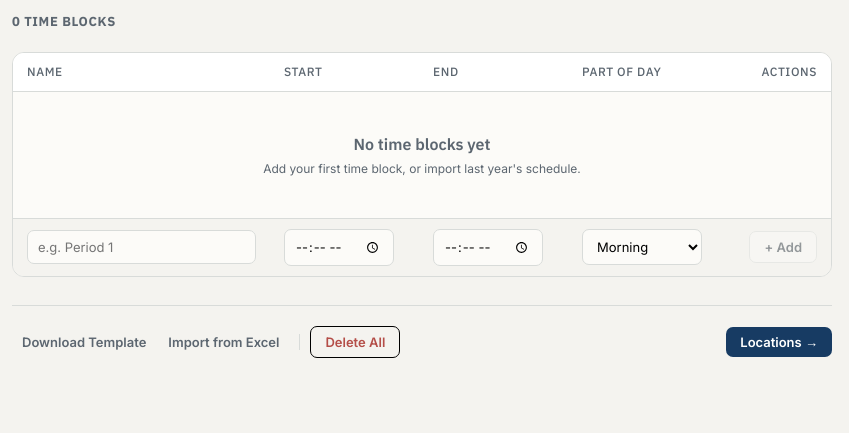
Test: TimeBlocksScreen — add › shows a collision-specific message when the underlying write fails with UNIQUE
In the field with placeholder "e.g. Period 1": [142, 247] box [27, 230, 256, 264], type "Block 1"
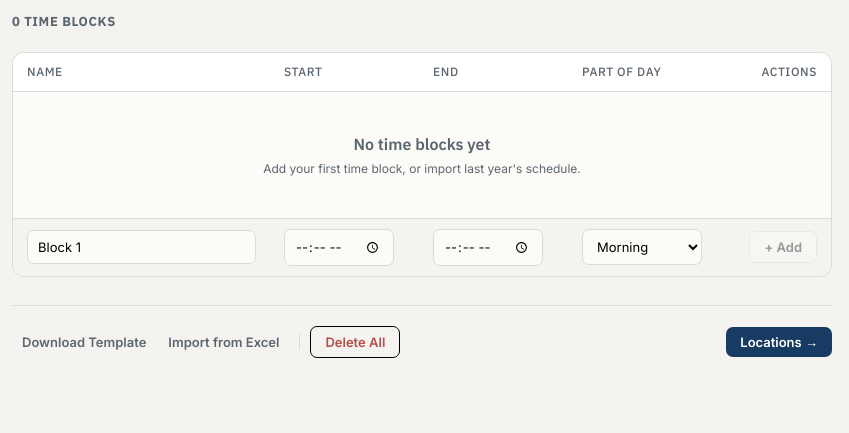
In the 1st time field: [339, 247] box [284, 228, 394, 266], type "09:00"
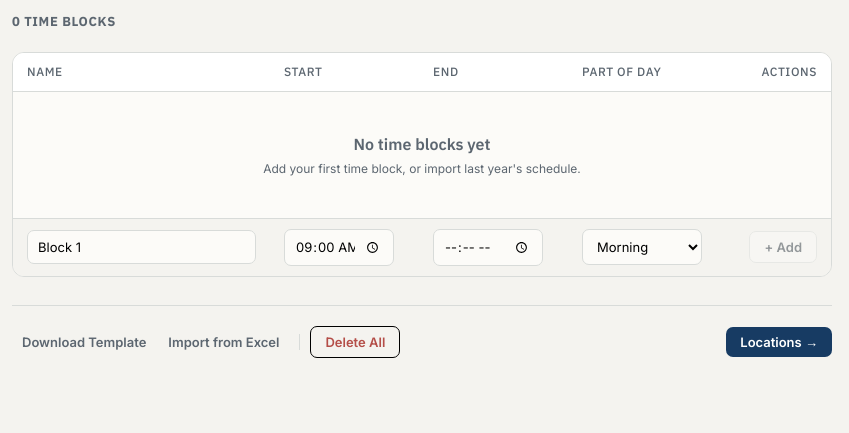
In the 2nd time field: [488, 247] box [433, 228, 543, 266], type "10:00"
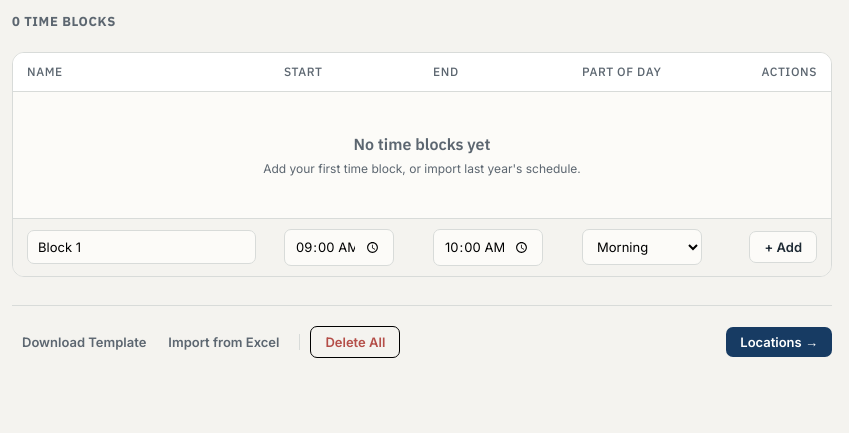
Click the button "+ Add": [783, 247] box [750, 231, 817, 263]
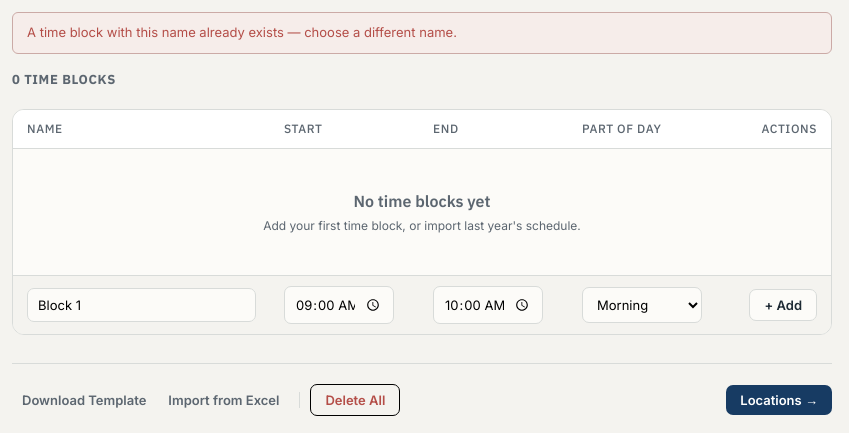
Check: the text "already exists" is shown, box [27, 24, 457, 40]
